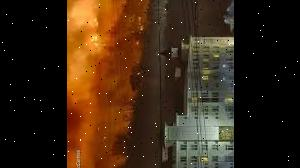fire: (67, 0, 147, 130)
